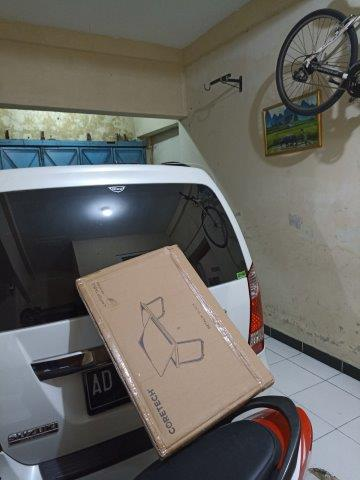kardus: (80, 247, 272, 457)
